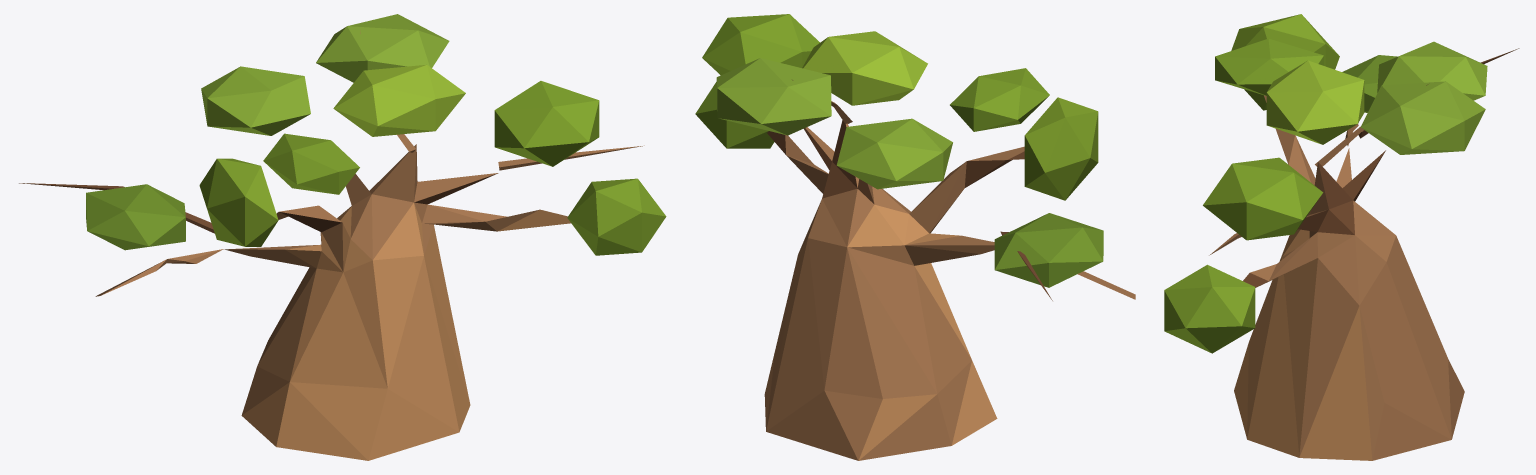
Rendered from baobab_bloom_far.glb.
The picture shows the model from 3 angles, left to right: view 1: azimuth 30°, elevation 25°; view 2: azimuth 150°, elevation 25°; view 3: azimuth 270°, elevation 25°; orthographic projection. The views are drawn at different scales.
Visible parts, largest first — view 1: baobab_bloom_far; view 2: baobab_bloom_far; view 3: baobab_bloom_far.
Part boxes in pixels (left/top/right/bottom): baobab_bloom_far: left=19, top=14, right=666, bottom=460; baobab_bloom_far: left=695, top=14, right=1135, bottom=460; baobab_bloom_far: left=1164, top=14, right=1519, bottom=460.
Bounding box in the file's own units: 8.64 × 5.76 × 5.3.
